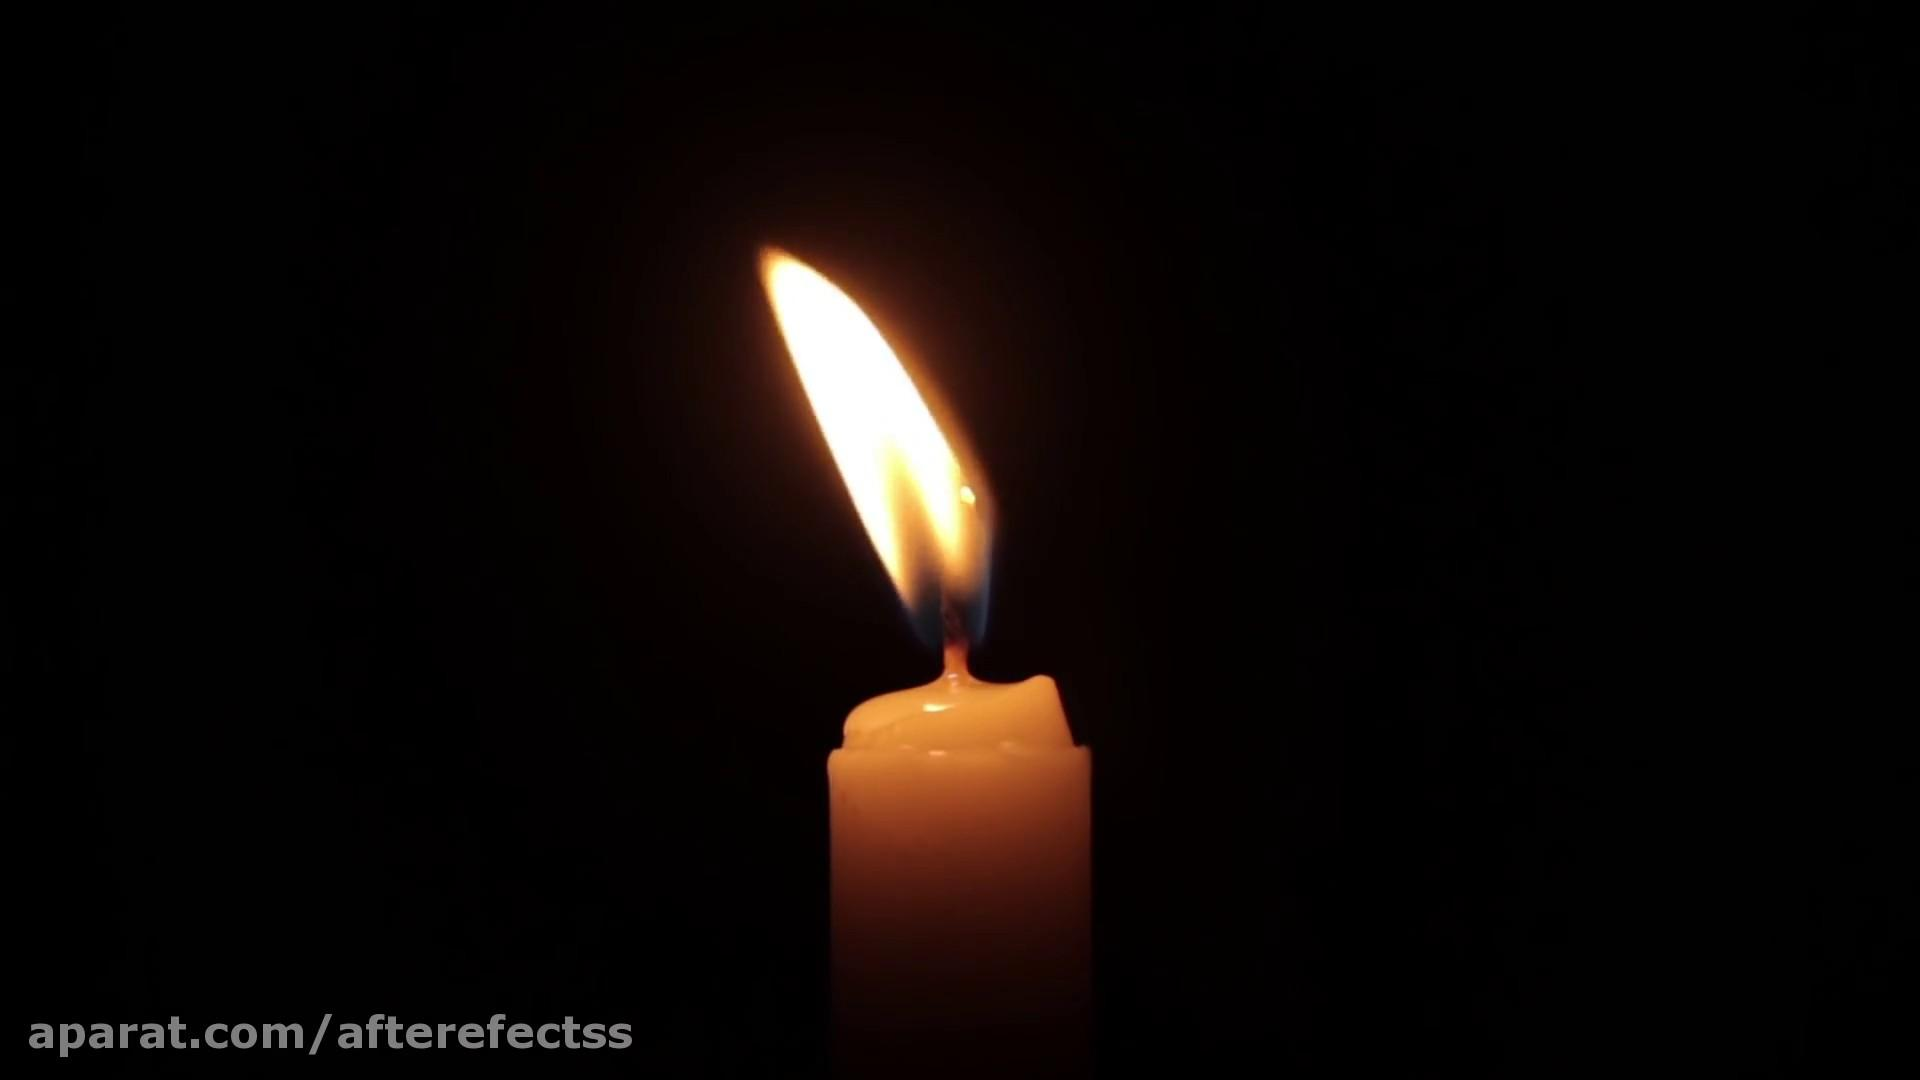fire: (696, 186, 1069, 686)
